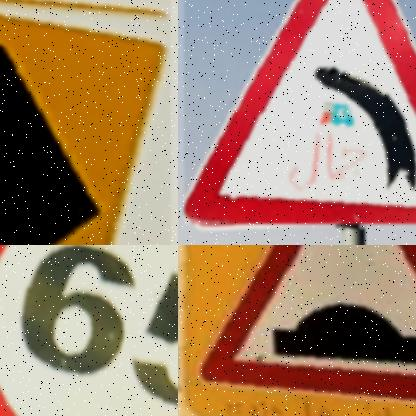Left bend: (184, 0, 416, 222)
Sharp Right Turn: (0, 11, 171, 245)
Speed Breaker Ahead: (185, 245, 416, 416)
Speed Limit (65 kmph): (0, 245, 178, 416)
